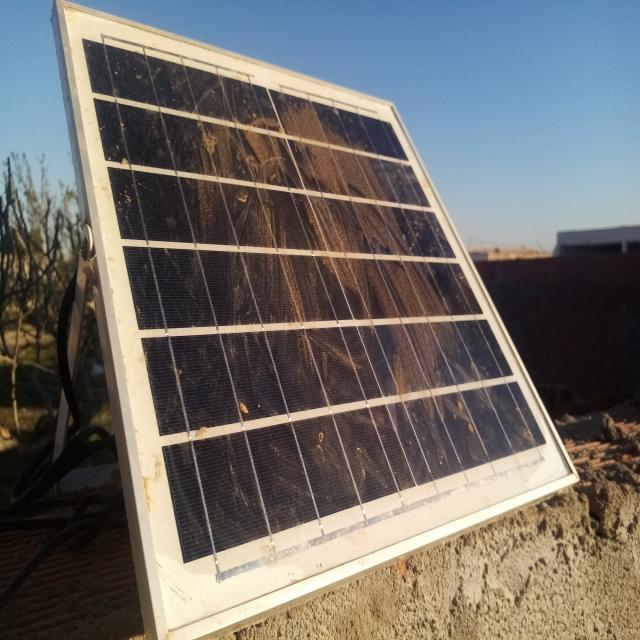faulty: (54, 4, 575, 640)
